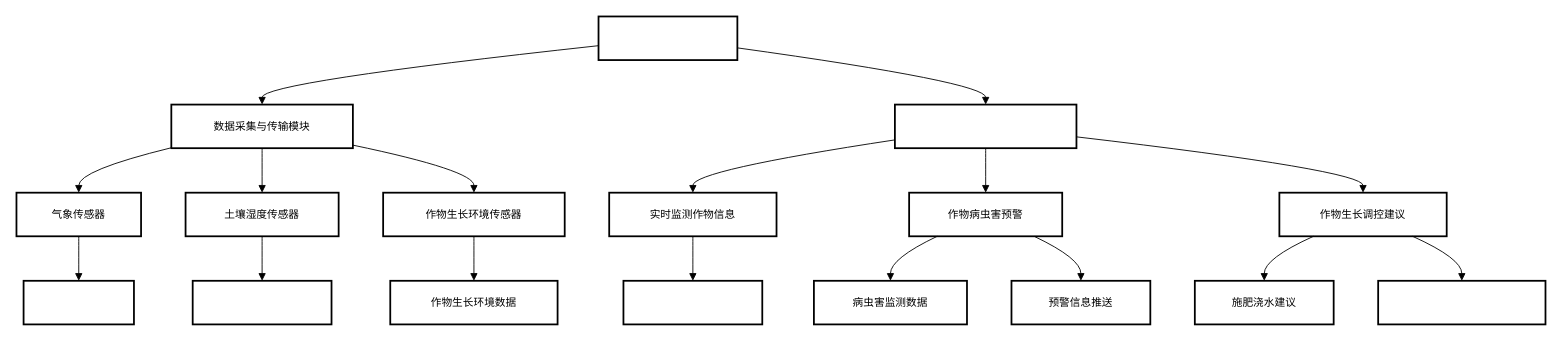
This 1561x340 diagram has some shape labels left out. The shapes that lost their labels are listed below. From the top down, each one's centre as x and y in pixels, then its label:
At (667,38): "智慧农业平台".
At (985,126): "数据分析与决策模块".
At (78,302): "气象数据".
At (261,302): "土壤湿度数据".
At (692,302): "作物生长状态".
At (1461,302): "光照温度调控建议".
